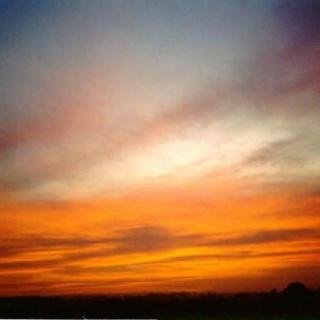Cirrostratus: (10, 46, 320, 266)
